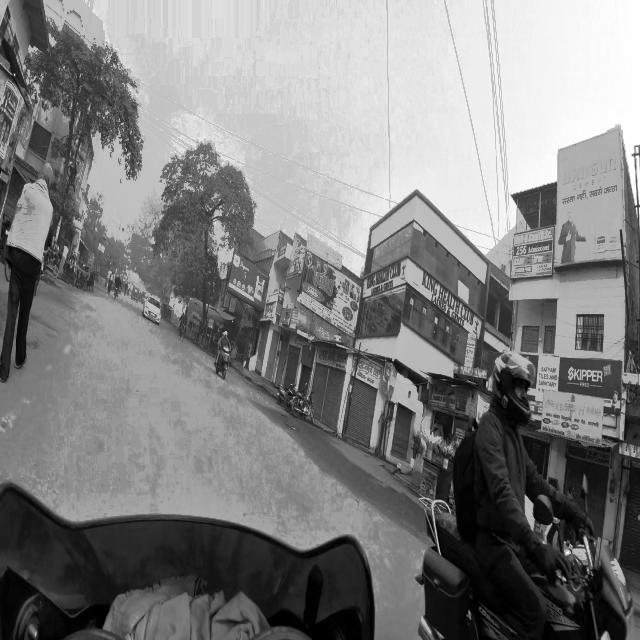Bike: (415, 355, 635, 640)
